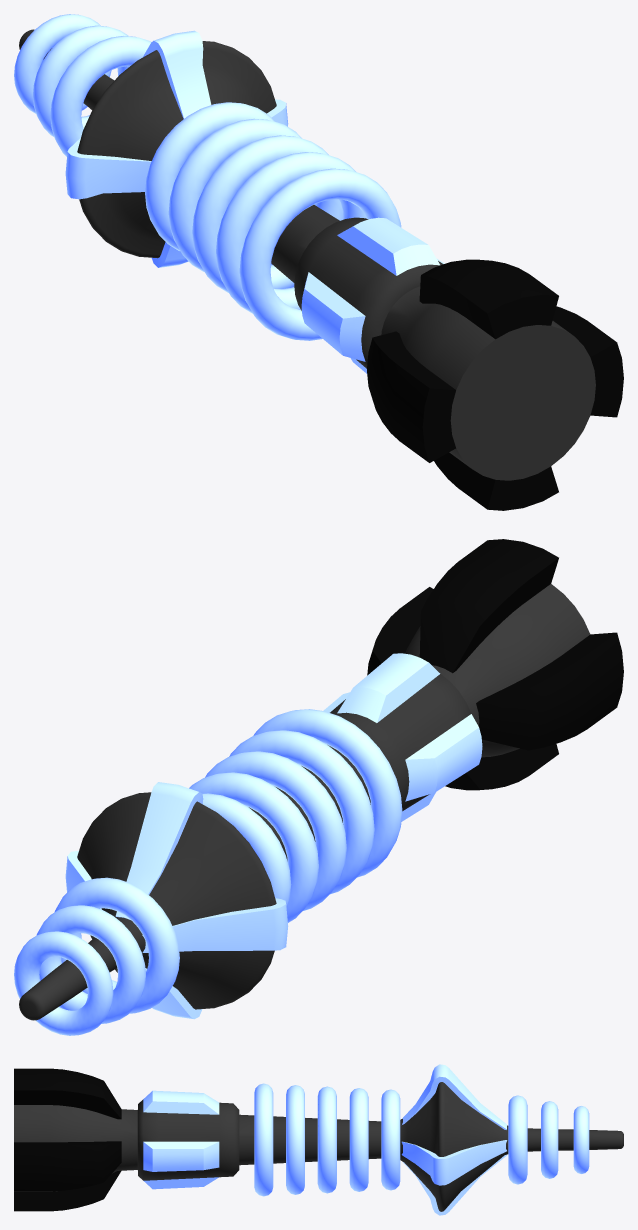
File: BeaconTower2.fbx
3 renders of one model, top to bottom at view 1: azimuth 30°, elevation 25°; view 2: azimuth 150°, elevation 25°; view 3: azimuth 270°, elevation 25°, orthographic. The views are drawn at different scales.
Visible parts, largest first — view 1: Cylinder, Cylinder.004, Cylinder.003, Cylinder_Curve.001, Cylinder.005, Cylinder_Curve.002, Cylinder_Curve.003, Cylinder_Curve.004, Cylinder_Curve.005, Cylinder_Curve.006, Cylinder.006, Cylinder.007 (+2 smaller); view 2: Cylinder, Cylinder.004, Cylinder.003, Cylinder.005, Cylinder_Curve.001, Cylinder_Curve.002, Cylinder_Curve.003, Cylinder_Curve.006, Cylinder_Curve.004, Cylinder_Curve.008, Cylinder_Curve.007, Cylinder.006 (+2 smaller); view 3: Cylinder, Cylinder.004, Cylinder.003, Cylinder.005, Cylinder.007, Cylinder_Curve.001, Cylinder_Curve.003, Cylinder.006, Cylinder_Curve.002, Cylinder_Curve.004, Cylinder_Curve.005, Cylinder_Curve.006 (+2 smaller).
Part boxes in pixels (<box>): Cylinder: <box>19,29,595,480</box>; Cylinder.004: <box>419,259,558,510</box>; Cylinder.003: <box>367,306,623,462</box>; Cylinder_Curve.001: <box>239,168,401,340</box>; Cylinder.005: <box>301,217,444,373</box>; Cylinder_Curve.002: <box>216,152,367,313</box>; Cylinder_Curve.003: <box>192,135,343,292</box>; Cylinder_Curve.004: <box>168,118,315,271</box>; Cylinder_Curve.005: <box>145,102,274,250</box>; Cylinder_Curve.006: <box>50,36,151,156</box>; Cylinder.006: <box>142,30,211,267</box>; Cylinder.007: <box>65,99,288,199</box>; Cylinder: <box>19,584,590,1020</box>; Cylinder.004: <box>419,539,558,790</box>; Cylinder.003: <box>367,587,623,750</box>; Cylinder.005: <box>323,653,482,821</box>; Cylinder_Curve.001: <box>253,709,402,877</box>; Cylinder_Curve.002: <box>229,730,374,894</box>; Cylinder_Curve.003: <box>205,751,346,910</box>; Cylinder_Curve.006: <box>54,877,179,1013</box>; Cylinder_Curve.004: <box>189,772,318,922</box>; Cylinder_Curve.008: <box>14,931,113,1035</box>; Cylinder_Curve.007: <box>36,905,145,1023</box>; Cylinder.006: <box>115,782,203,1019</box>; Cylinder: <box>14,1082,623,1211</box>; Cylinder.004: <box>14,1068,121,1211</box>; Cylinder.003: <box>14,1141,121,1191</box>; Cylinder.005: <box>143,1090,219,1189</box>; Cylinder.007: <box>401,1140,507,1185</box>; Cylinder_Curve.001: <box>254,1083,273,1196</box>; Cylinder_Curve.003: <box>317,1086,336,1193</box>; Cylinder.006: <box>402,1064,506,1215</box>; Cylinder_Curve.002: <box>286,1085,304,1194</box>; Cylinder_Curve.004: <box>349,1088,368,1191</box>; Cylinder_Curve.005: <box>381,1089,400,1190</box>; Cylinder_Curve.006: <box>508,1095,527,1184</box>.
Size of the model in its own units: 302 by 302 by 1178.
